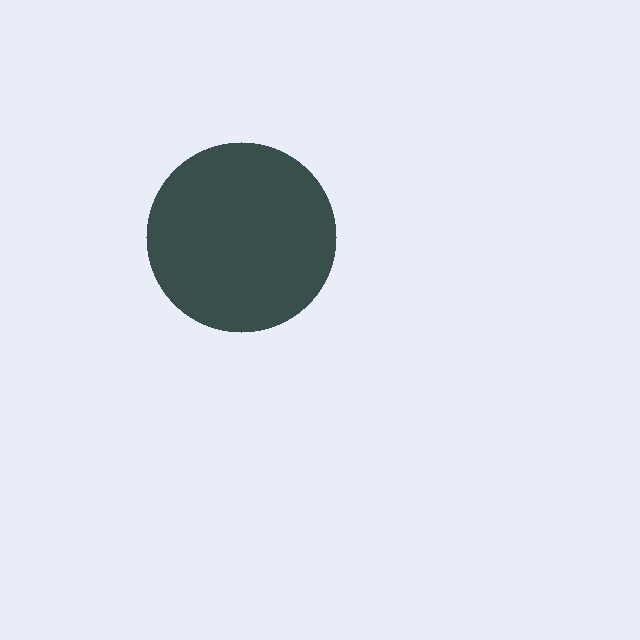circle: (146, 141, 337, 332)
